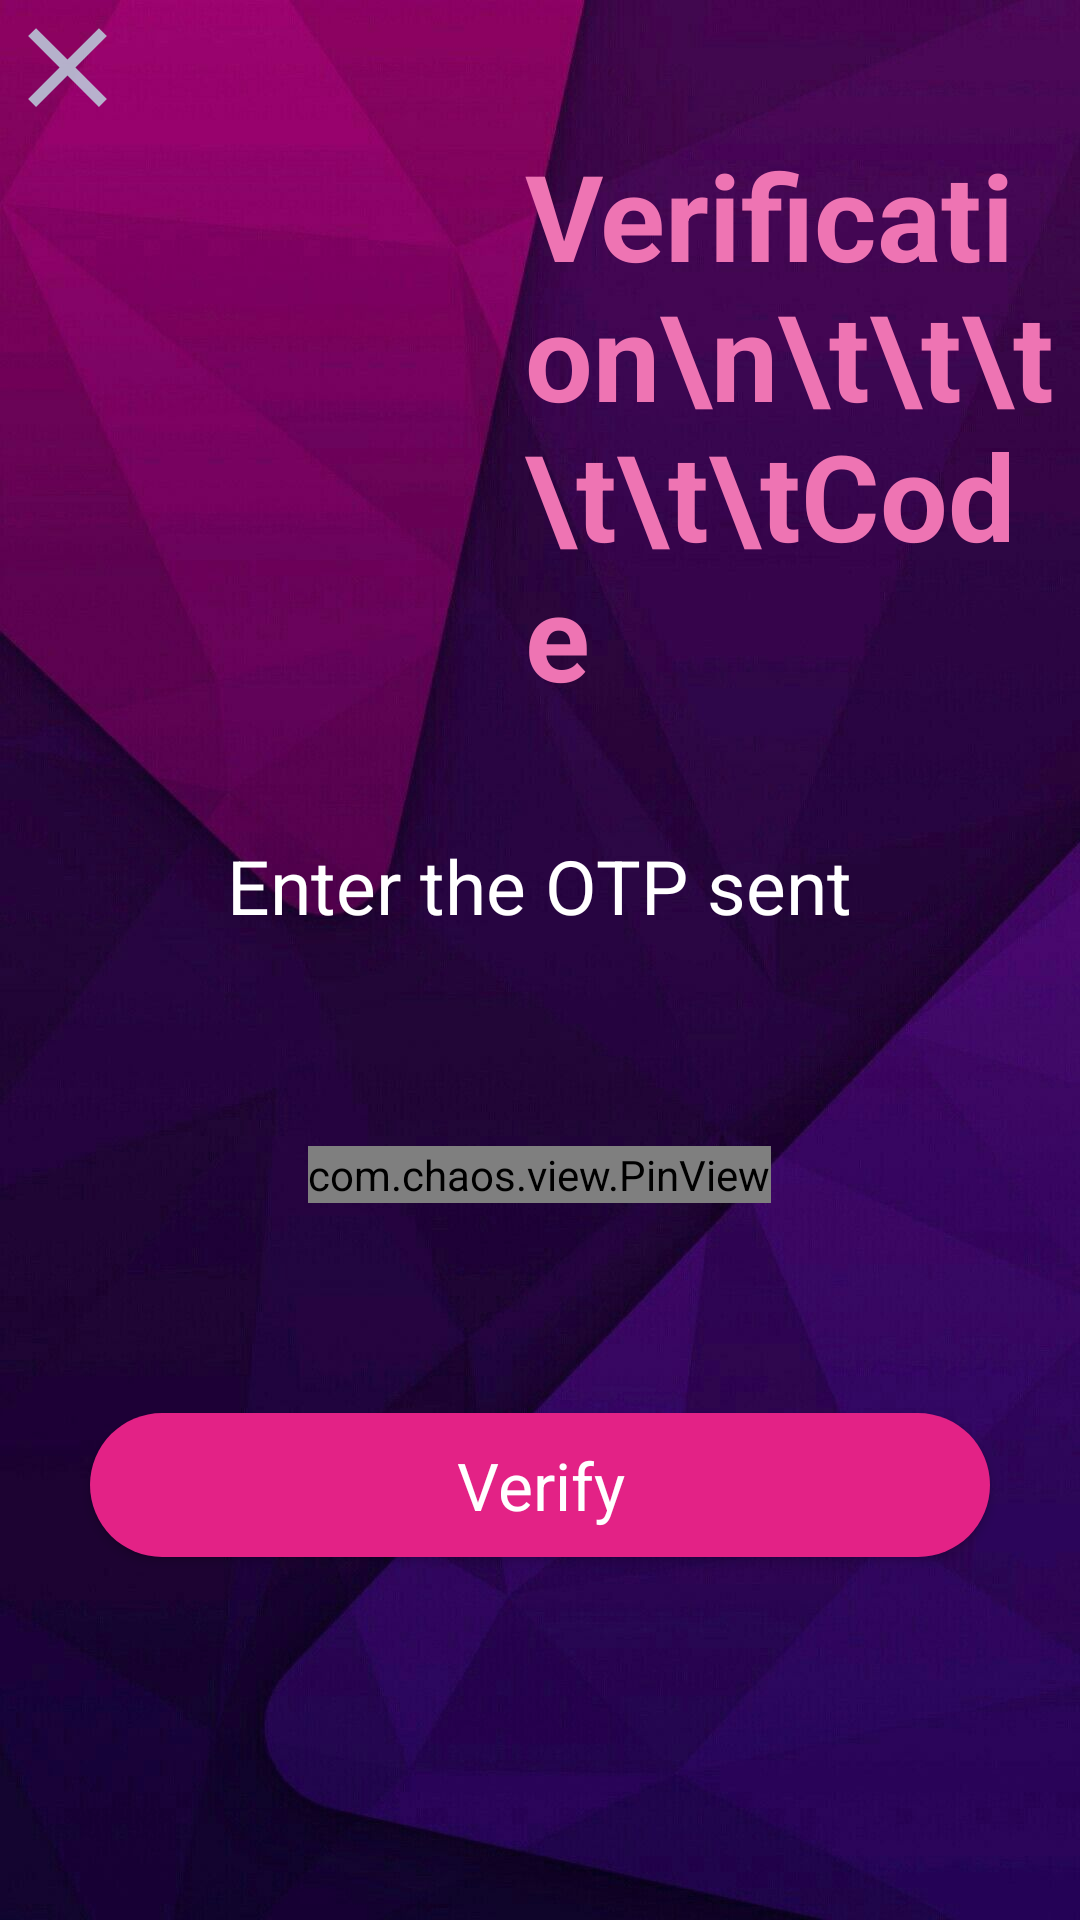

Screen size 1080 × 1920. Icon name, then its center in pixels as [x,y]:
close: [60,67]
